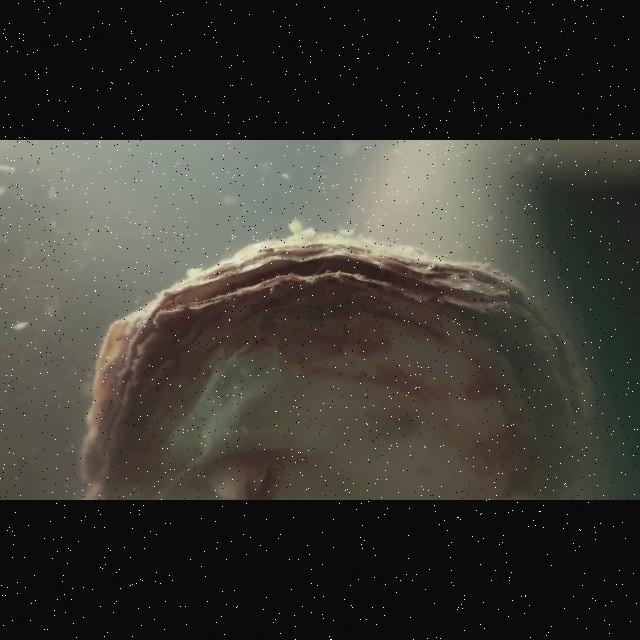Oyster-Open: (73, 226, 610, 496)
